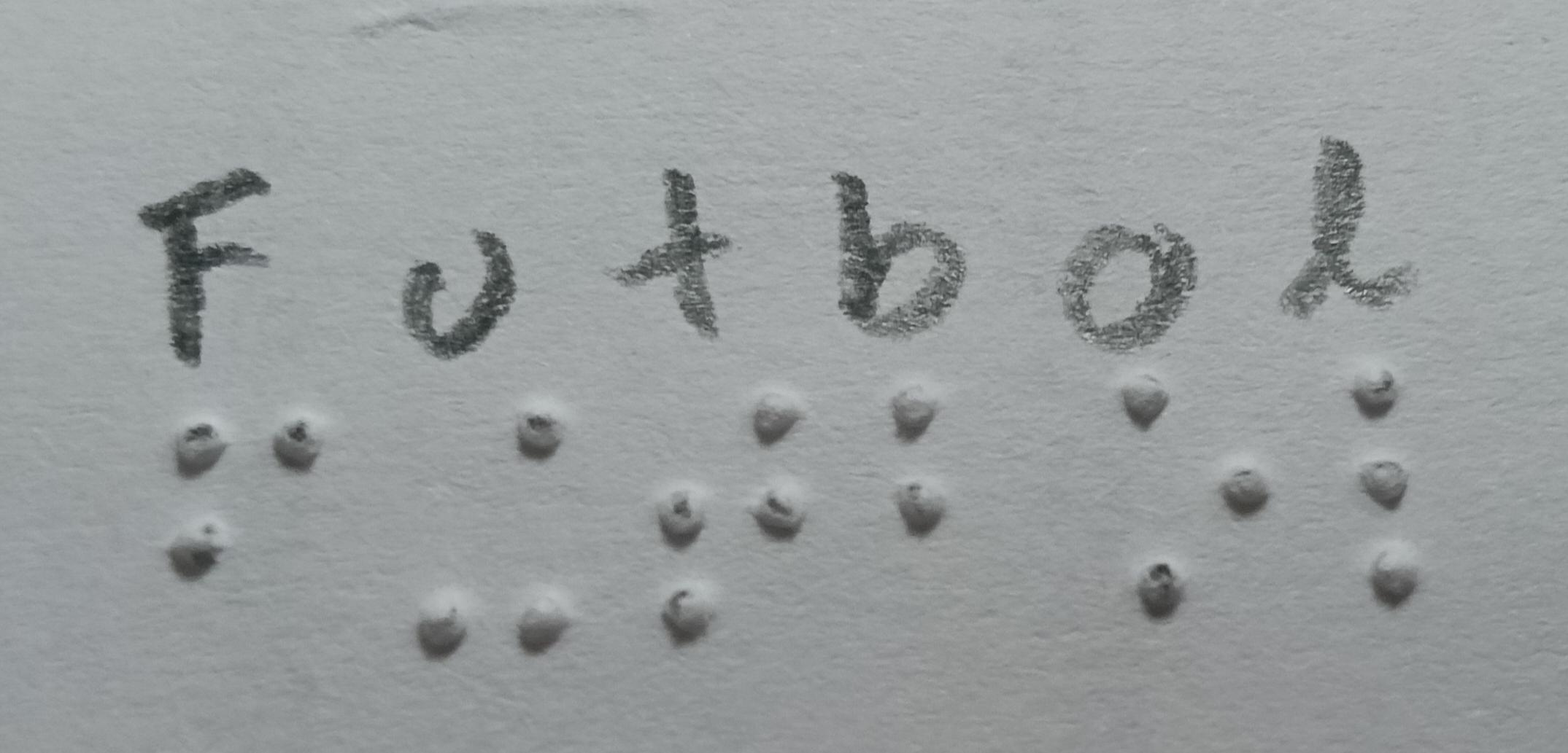b: (850, 372, 989, 554)
f: (148, 386, 339, 600)
l: (1328, 357, 1459, 643)
o: (1045, 364, 1293, 638)
t: (626, 379, 826, 662)
u: (385, 394, 596, 683)
